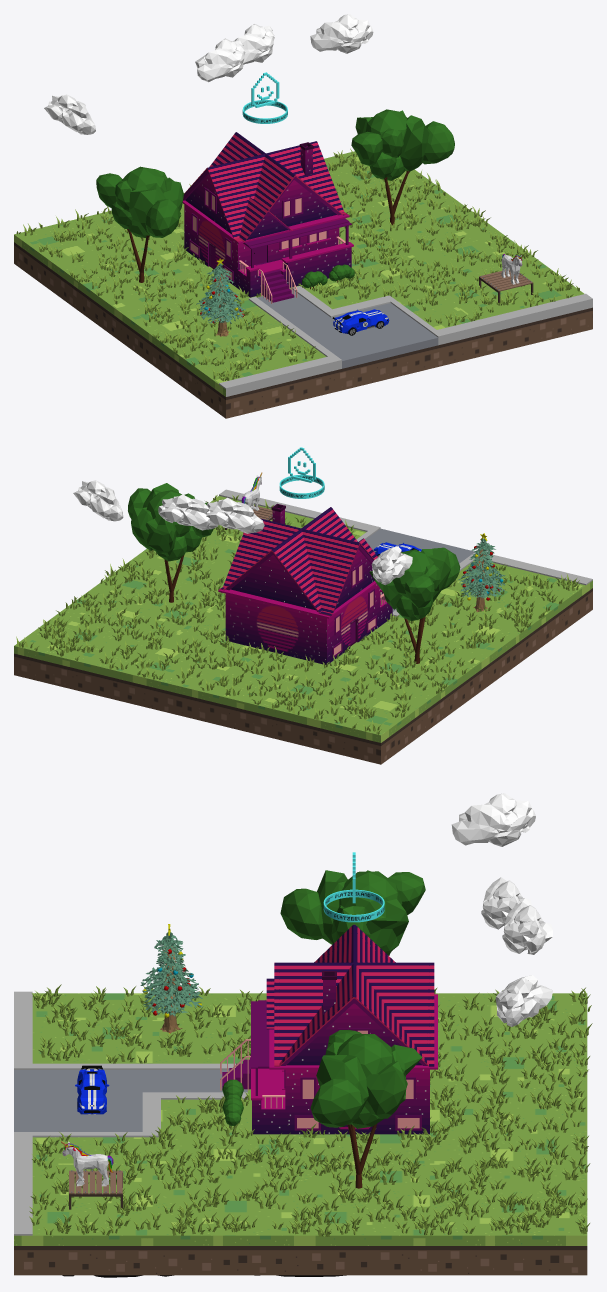
3 renders of one model, top to bottom at view 1: azimuth 30°, elevation 25°; view 2: azimuth 150°, elevation 25°; view 3: azimuth 270°, elevation 25°, orthographic. The views are drawn at different scales.
Parts seen in each view (by area): view 1: Cube.006, Cube.156, Circle.012_Grass_0.192, Cube.007, tree, tree.001, OBJRANDOM_CHRISTMAS_TREE, VEHICLES_RACING_CAR, TYPE_PREMIUM, Cube.009; view 2: Cube.006, Cube.156, Circle.012_Grass_0.192, Cube.007, tree.001, tree, OBJRANDOM_CHRISTMAS_TREE, TYPE_PREMIUM; view 3: Cube.006, Circle.012_Grass_0.192, Cube.156, tree, Cube.007, tree.001, OBJRANDOM_CHRISTMAS_TREE, VEHICLES_RACING_CAR, Cube.009, TYPE_PREMIUM, ANIMAL_UNICORNIO.
Part boxes in pixels (x1,y1,x2,y2): Cube.006: (14, 151, 592, 418); Cube.156: (182, 132, 353, 303); Circle.012_Grass_0.192: (16, 148, 579, 381); Cube.007: (44, 14, 373, 134); tree: (351, 109, 454, 225); tree.001: (96, 166, 183, 282); OBJRANDOM_CHRISTMAS_TREE: (196, 258, 245, 336); VEHICLES_RACING_CAR: (332, 309, 389, 335); TYPE_PREMIUM: (242, 72, 287, 123); Cube.009: (479, 269, 533, 302); Cube.006: (14, 489, 592, 764); Cube.156: (218, 503, 392, 664); Circle.012_Grass_0.192: (16, 495, 579, 734); Cube.007: (73, 480, 412, 585); tree.001: (369, 547, 460, 663); tree: (128, 483, 213, 602); OBJRANDOM_CHRISTMAS_TREE: (458, 533, 505, 612); TYPE_PREMIUM: (279, 447, 324, 498); Cube.006: (14, 991, 587, 1275); Circle.012_Grass_0.192: (29, 984, 592, 1236); Cube.156: (220, 924, 437, 1134); tree: (310, 1029, 422, 1188); Cube.007: (451, 793, 552, 1026); tree.001: (280, 870, 425, 955); OBJRANDOM_CHRISTMAS_TREE: (140, 924, 202, 1033); VEHICLES_RACING_CAR: (75, 1065, 109, 1114); Cube.009: (69, 1170, 122, 1209); TYPE_PREMIUM: (323, 852, 384, 922); ANIMAL_UNICORNIO: (61, 1141, 113, 1186).
Bounding box in the file's own units: 4071 × 2273 × 4040.
44 materials, 6 textured.
